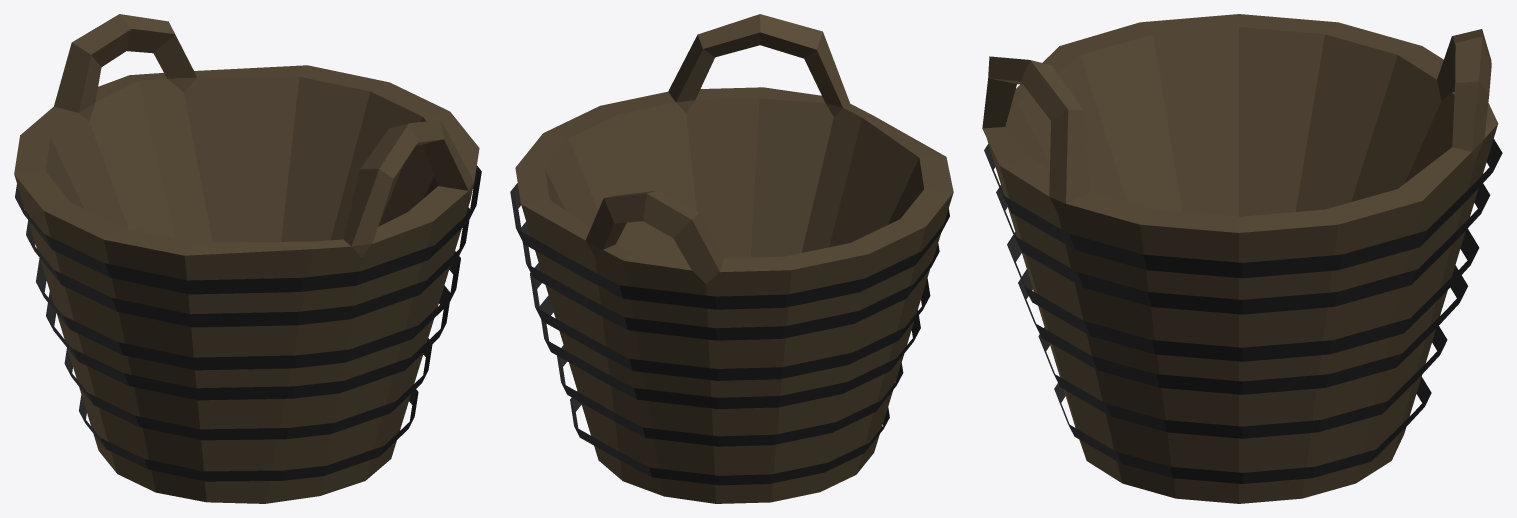
The model's file is EA03_Prop_Container_Basket_02.glb.
3 renders of one model, left to right at view 1: azimuth 30°, elevation 25°; view 2: azimuth 150°, elevation 25°; view 3: azimuth 270°, elevation 25°, orthographic. The views are drawn at different scales.
Parts seen in each view (by area): view 1: EA03_Prop_Container_Basket_02; view 2: EA03_Prop_Container_Basket_02; view 3: EA03_Prop_Container_Basket_02.
Part boxes in pixels (<box>): EA03_Prop_Container_Basket_02: <box>14,14,481,503</box>; EA03_Prop_Container_Basket_02: <box>510,14,953,503</box>; EA03_Prop_Container_Basket_02: <box>982,14,1502,503</box>.
Size of the model in its own units: 0.6013 by 0.5208 by 0.5981.
Materials: 1 (1 with a texture image).
